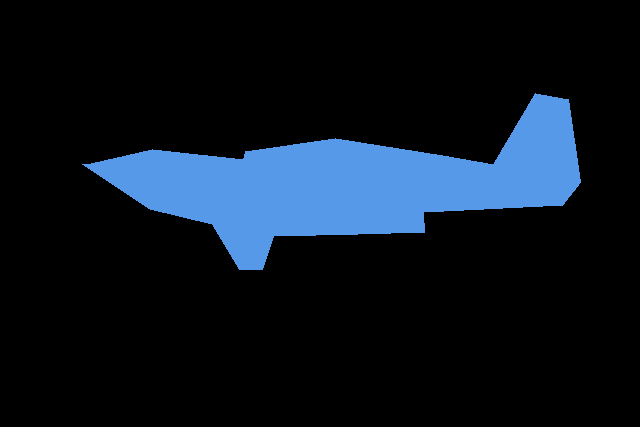Airplane: (82, 93, 580, 270)
